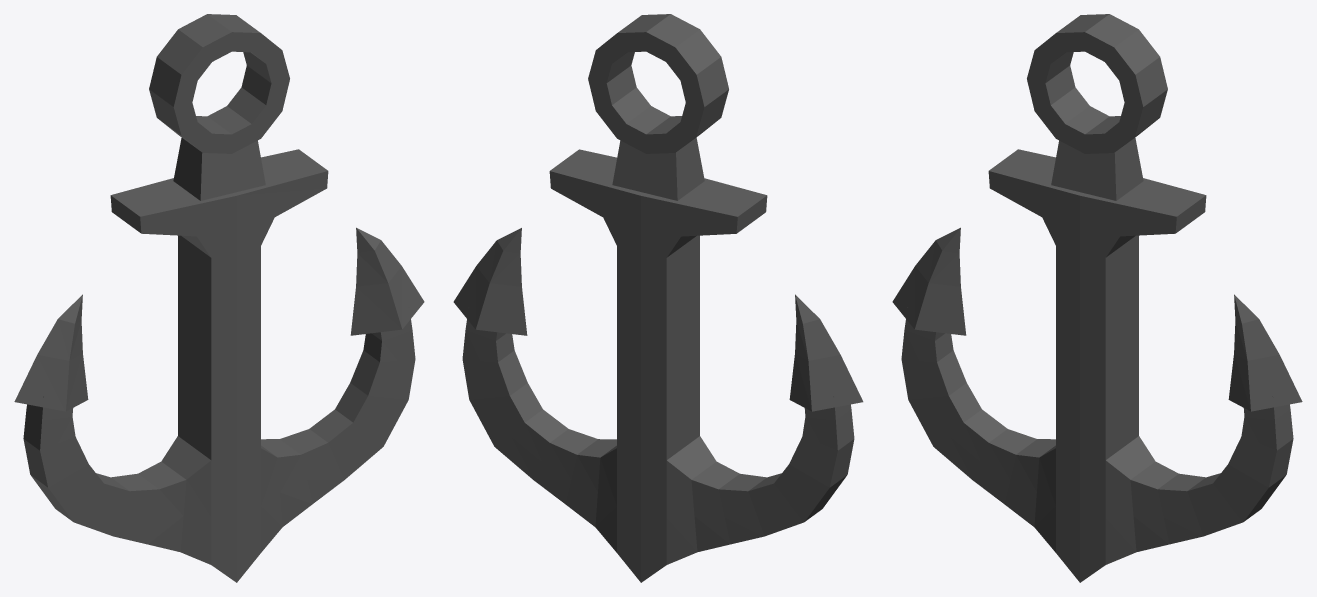
The model's file is anchor.fbx.
3 renders of one model, left to right at view 1: azimuth 30°, elevation 25°; view 2: azimuth 150°, elevation 25°; view 3: azimuth 330°, elevation 25°, orthographic.
Parts seen in each view (by area): view 1: anchor; view 2: anchor; view 3: anchor.
Boxes of the visible parts, left/top/right/bottom form: anchor: left=14, top=14, right=424, bottom=582; anchor: left=453, top=14, right=863, bottom=582; anchor: left=892, top=14, right=1302, bottom=582.
Size of the model in its own units: 1.63 by 2.08 by 0.239.
